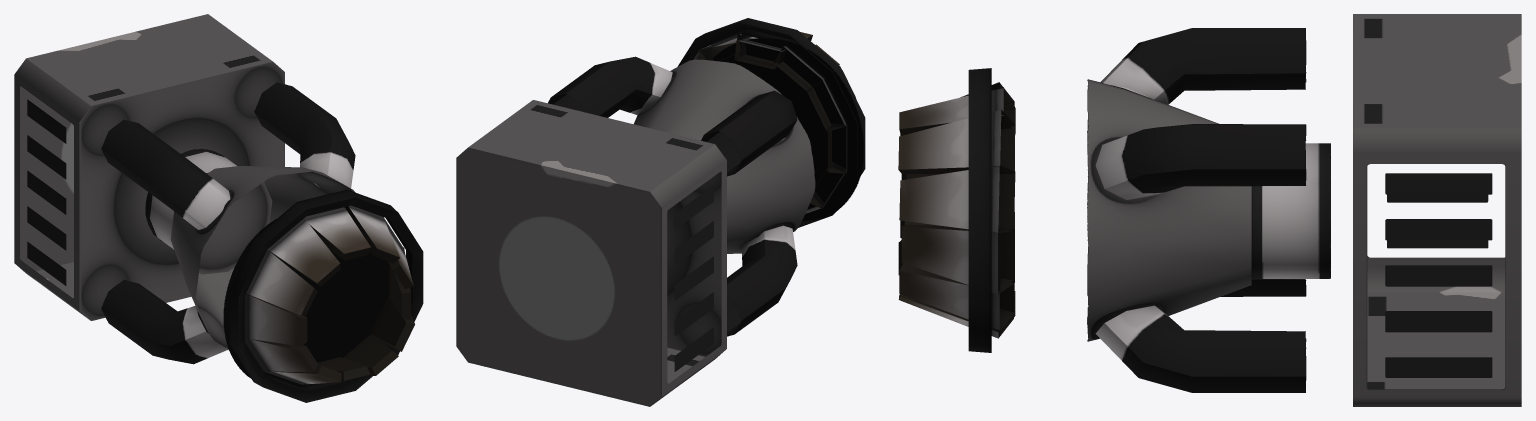
The model's file is obj_interactive_thruster_02_pose1.fbx.
The picture shows the model from 3 angles, left to right: view 1: azimuth 30°, elevation 25°; view 2: azimuth 150°, elevation 25°; view 3: azimuth 270°, elevation 25°; orthographic projection. The views are drawn at different scales.
Parts seen in each view (by area): view 1: obj_interactive_thruster_02_pose1; view 2: obj_interactive_thruster_02_pose1; view 3: obj_interactive_thruster_02_pose1.
Part boxes in pixels (x1,y1,x2,y2): obj_interactive_thruster_02_pose1: (14,14,423,402); obj_interactive_thruster_02_pose1: (456,18,865,406); obj_interactive_thruster_02_pose1: (898,14,1521,406).
Bounding box in the file's own units: 2.04 × 2.04 × 4.06.
